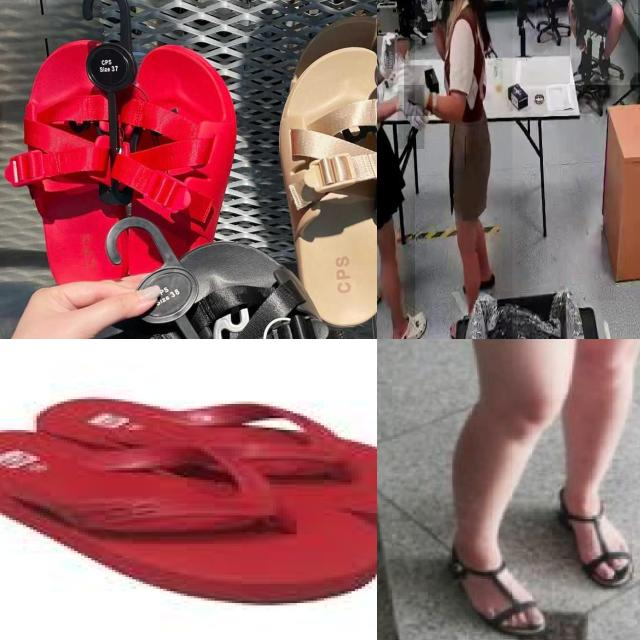Sandals: (0, 363, 377, 640), (3, 32, 249, 316), (251, 32, 377, 339), (61, 224, 377, 339), (409, 522, 557, 640), (541, 480, 640, 604)
hand_glove: (398, 85, 424, 149), (404, 65, 432, 116), (379, 36, 397, 83), (413, 0, 437, 29)
person: (404, 0, 513, 339), (377, 0, 415, 339), (569, 0, 638, 85)
